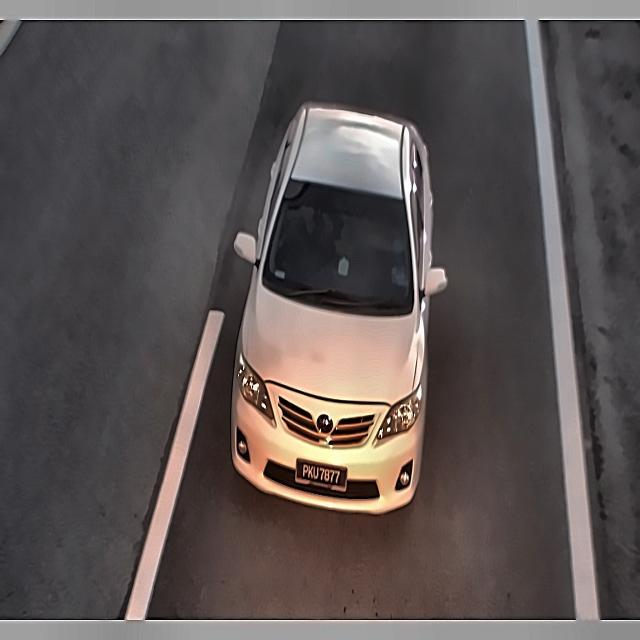car: (295, 456, 351, 494)
